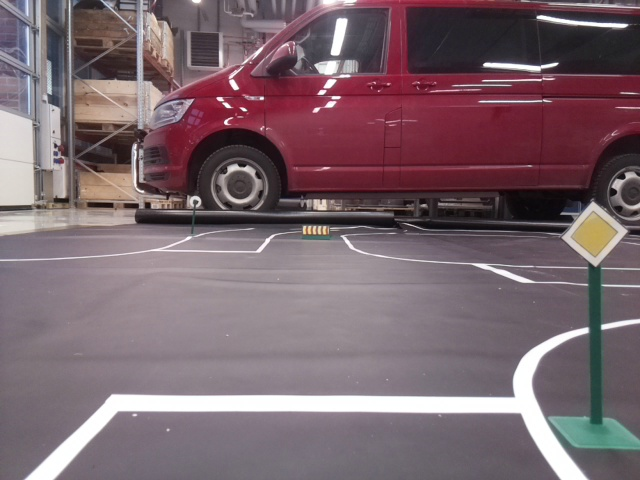Priority: (557, 198, 627, 263)
